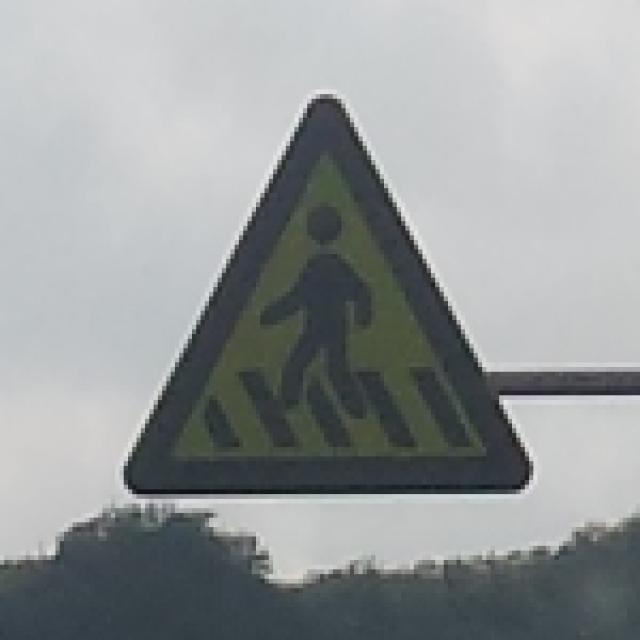Crossing: (117, 88, 537, 518)
